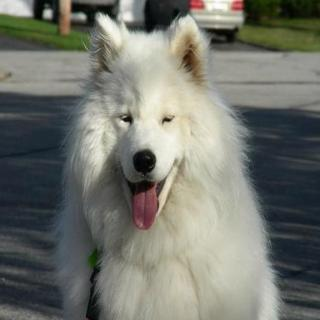dog: (81, 8, 214, 238)
nose: (131, 147, 159, 177)
